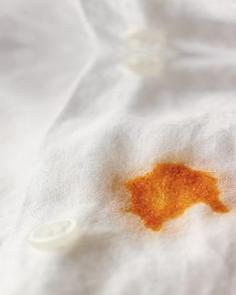stain: (114, 154, 234, 238)
